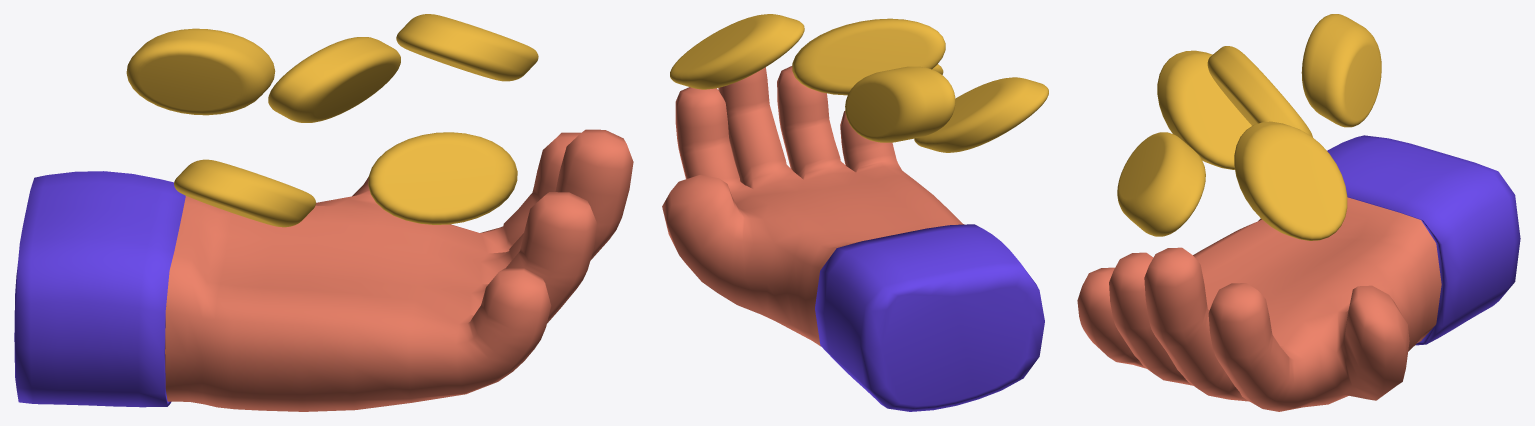
File: SuperHand.glb
3 renders of one model, left to right at view 1: azimuth 30°, elevation 25°; view 2: azimuth 150°, elevation 25°; view 3: azimuth 270°, elevation 25°, orthographic. The views are drawn at different scales.
Visible parts, largest first — view 1: Cube.021, Cylinder.001; view 2: Cube.021, Cylinder.001; view 3: Cube.021, Cylinder.001.
Part boxes in pixels (<box>): Cube.021: <box>14,129,633,411</box>; Cylinder.001: <box>126,14,538,227</box>; Cube.021: <box>662,66,1044,411</box>; Cylinder.001: <box>670,14,1048,152</box>; Cube.021: <box>1077,135,1520,411</box>; Cylinder.001: <box>1117,14,1381,240</box>.
Bounding box in the file's own units: 1.16 × 0.7626 × 0.9701.
